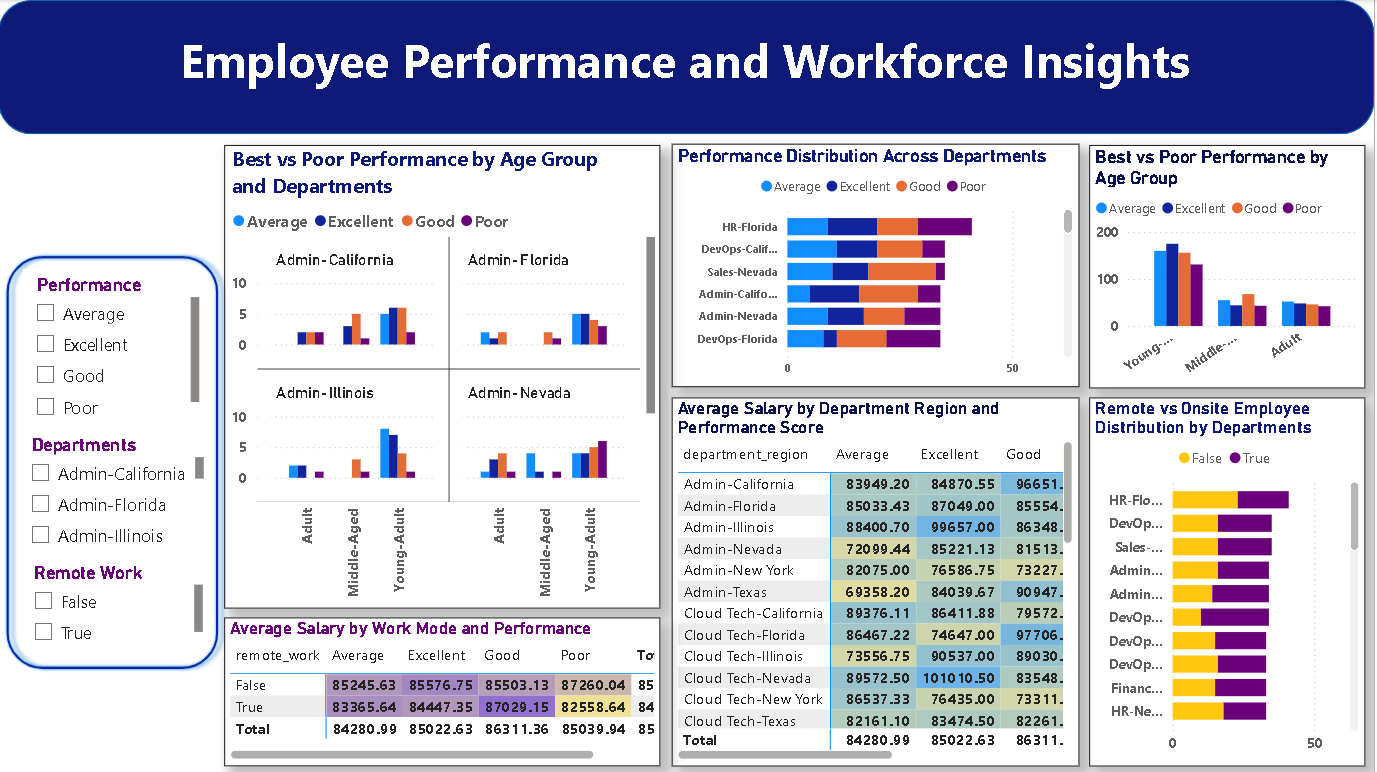

What the dashboard file says about the page in this screenshot:
{"tool":"powerbi","page":{"name":"Page 1","canvas":[1280,720],"ordinal":0},"visuals":[{"type":"clusteredColumnChart","title":"Best vs Poor Performance by Age Group and Departments","fields":{"Category":["public employee.age_group"],"Series":["public employee.performance_score"],"Y":["CountNonNull(public employee.employee_id)"],"Rows":["public employee.department_region"]},"box":[212.8,134.9,403.5,431.4],"z":0},{"type":"shape","box":[0,230.2,212.8,400],"z":1000},{"type":"shape","box":[0,0,1280.3,124.9],"z":2000},{"type":"textbox","box":[12.8,22.1,1252.3,89.5],"z":3000},{"type":"slicer","fields":{"Values":["public employee.performance_score"]},"box":[23.3,250,168.6,140.7],"z":4000},{"type":"barChart","title":"Performance Distribution Across Departments","fields":{"Category":["public employee.department_region"],"Series":["public employee.performance_score"],"Y":["CountNonNull(public employee.employee_id)"]},"box":[626.7,133.7,379.1,226.7],"z":5000},{"type":"shape","box":[210.5,134.9,405.8,431.4],"z":6000},{"type":"clusteredColumnChart","title":"Best vs Poor Performance by Age Group","fields":{"Series":["public employee.performance_score"],"Category":["public employee.age_group"],"Y":["CountNonNull(public employee.employee_id)"]},"box":[1015.1,134.9,257,226.7],"z":7000},{"type":"pivotTable","title":"Average Salary by Department Region and Performance Score","fields":{"Rows":["public employee.department_region"],"Columns":["public employee.performance_score"],"Values":["Avg(public employee.salary)"]},"box":[626.7,369.8,379.1,343],"z":8000},{"type":"slicer","fields":{"Values":["public employee.department_region"]},"box":[18.6,398.8,177.9,122.1],"z":9000},{"type":"pivotTable","title":"Average Salary by Work Mode and Performance ","fields":{"Rows":["public employee.remote_work"],"Columns":["public employee.performance_score"],"Values":["Avg(public employee.salary)"]},"box":[210.5,574.4,405.8,138.4],"z":10000},{"type":"slicer","fields":{"Values":["public employee.remote_work"]},"box":[20.9,517.4,174.4,87.2],"z":11000},{"type":"barChart","title":"Remote vs Onsite Employee Distribution by Departments","fields":{"Category":["public employee.department_region"],"Series":["public employee.remote_work"],"Y":["CountNonNull(public employee.employee_id)"]},"box":[1015.1,369.8,257,343],"z":12000}]}

Visuals, with their boxes in screenshot pixels (x1, y1, x2, y2), scaled from the page's 1280x720 canvas onto the 1377x772 screenshot:
"Best vs Poor Performance by Age Group and Departments" clusteredColumnChart: [x1=229, y1=145, x2=663, y2=607]
shape: [x1=0, y1=247, x2=229, y2=676]
shape: [x1=0, y1=0, x2=1376, y2=134]
textbox: [x1=14, y1=24, x2=1361, y2=120]
slicer - public employee.performance_score: [x1=25, y1=268, x2=206, y2=419]
"Performance Distribution Across Departments" barChart: [x1=674, y1=143, x2=1082, y2=386]
shape: [x1=226, y1=145, x2=663, y2=607]
"Best vs Poor Performance by Age Group" clusteredColumnChart: [x1=1092, y1=145, x2=1369, y2=388]
"Average Salary by Department Region and Performance Score" pivotTable: [x1=674, y1=397, x2=1082, y2=764]
slicer - public employee.department_region: [x1=20, y1=428, x2=211, y2=559]
"Average Salary by Work Mode and Performance " pivotTable: [x1=226, y1=616, x2=663, y2=764]
slicer - public employee.remote_work: [x1=22, y1=555, x2=210, y2=648]
"Remote vs Onsite Employee Distribution by Departments" barChart: [x1=1092, y1=397, x2=1369, y2=764]
